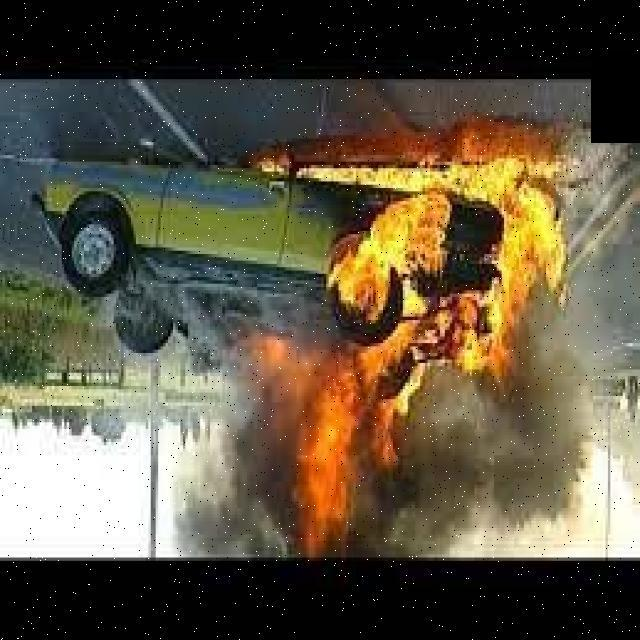severe: (37, 150, 524, 371)
